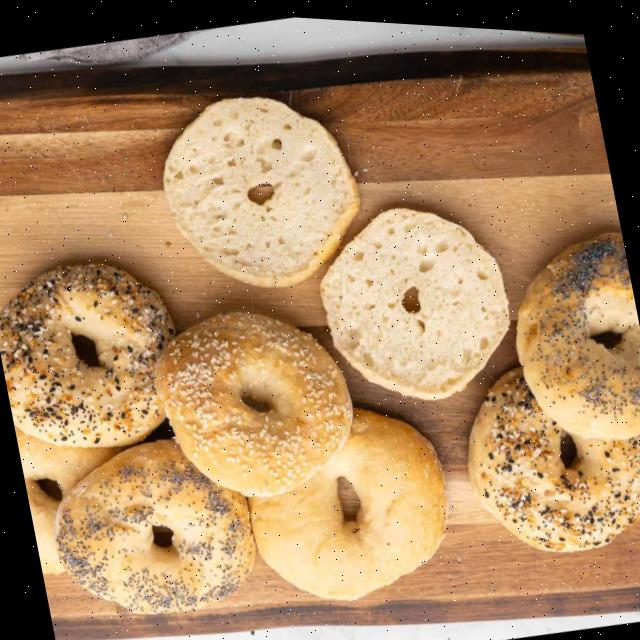Bagel: (249, 404, 448, 595), (164, 93, 359, 283), (154, 308, 353, 493), (320, 202, 510, 394), (55, 437, 256, 612), (0, 261, 175, 445), (468, 360, 640, 544), (516, 224, 640, 432)
